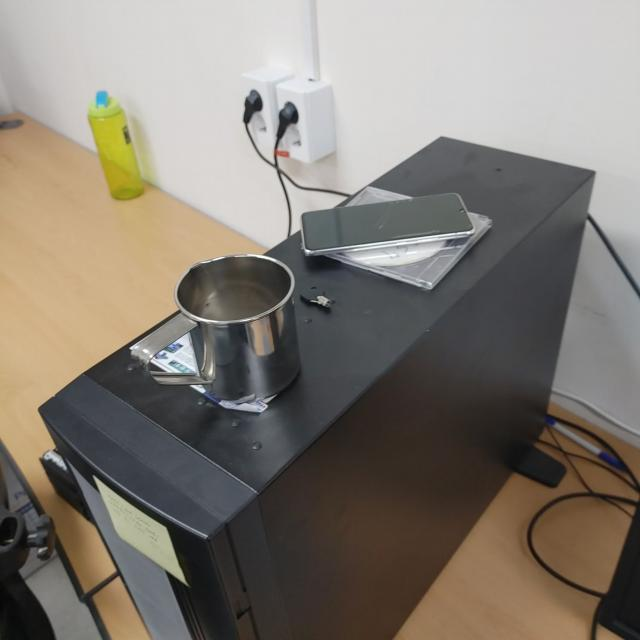cup: (130, 254, 302, 404)
phone: (302, 192, 476, 258)
